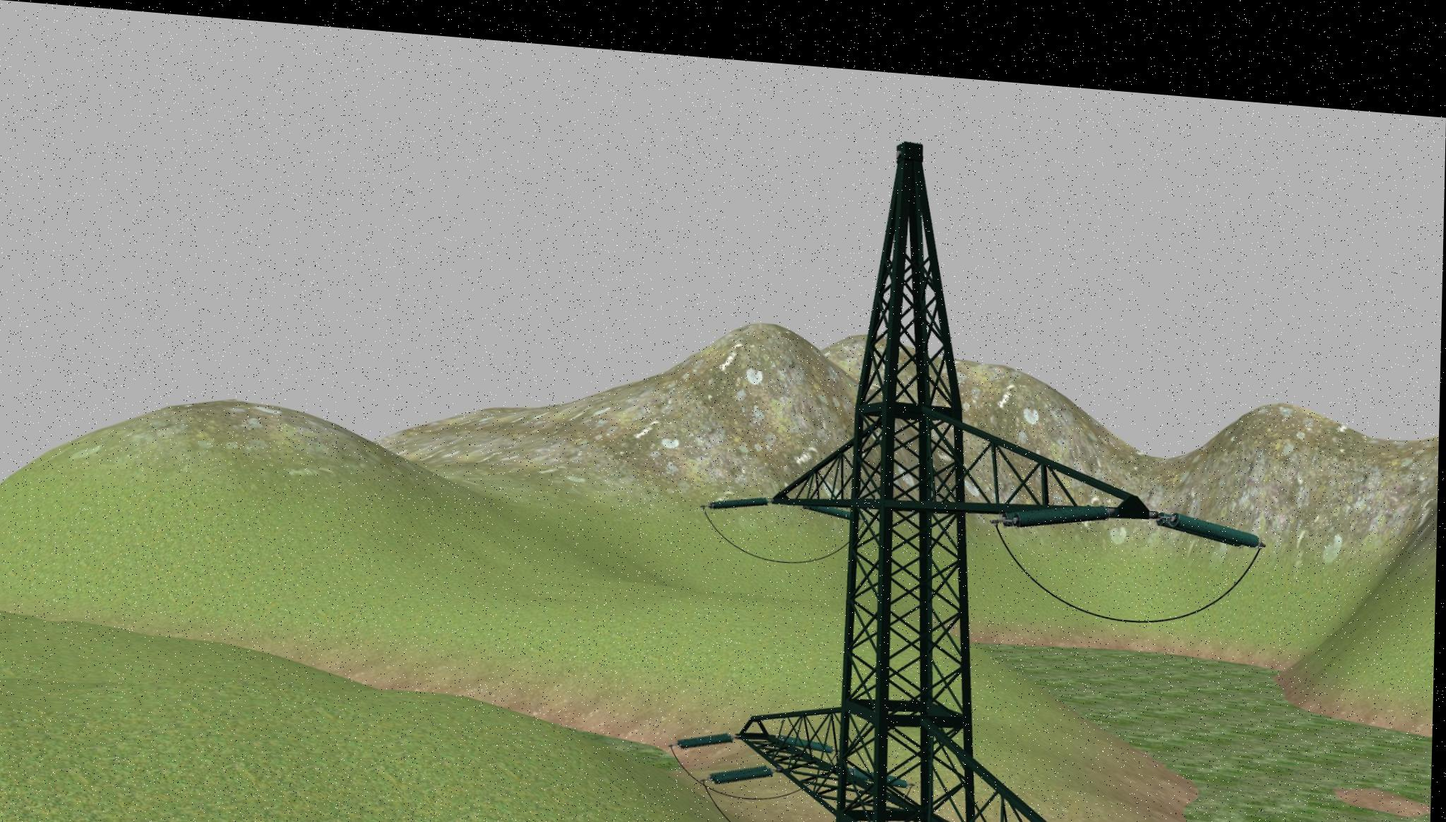tower: (739, 125, 1209, 822)
